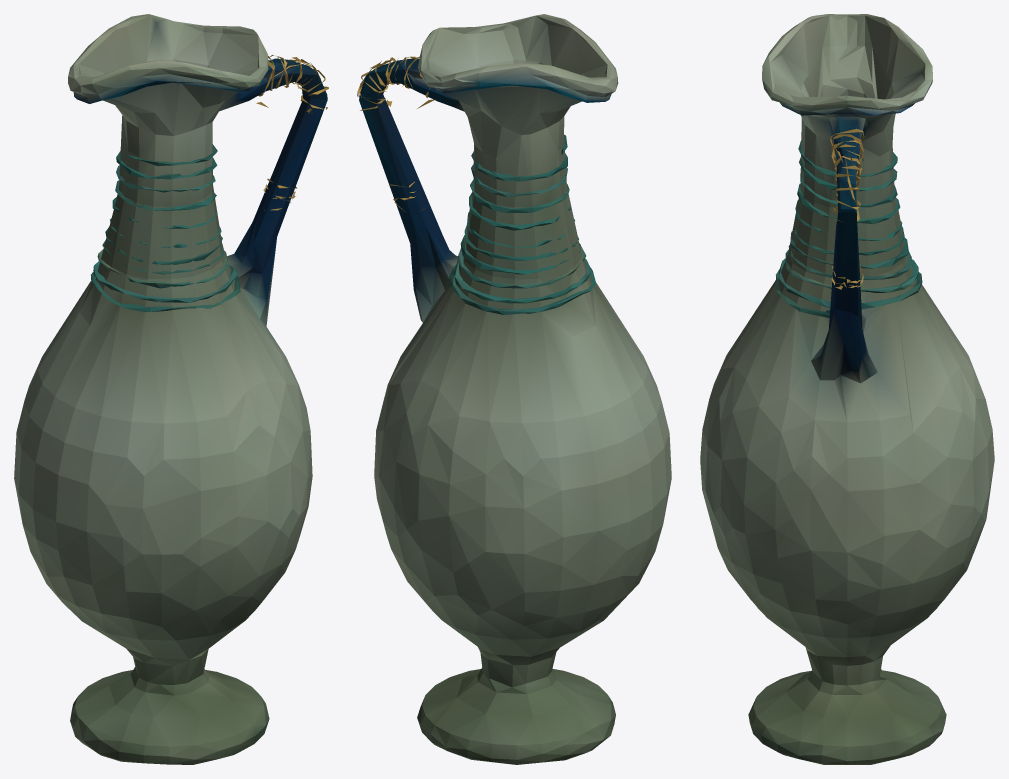
File: phoenix_headed_glass_bottle_edef50ab.glb
The picture shows the model from 3 angles, left to right: view 1: azimuth 30°, elevation 25°; view 2: azimuth 150°, elevation 25°; view 3: azimuth 270°, elevation 25°; orthographic projection.
Visible parts, largest first — view 1: SM_ShillaGlassBottle_01_Lowpoly_SM_ShillaGlassBottle_01_0; view 2: SM_ShillaGlassBottle_01_Lowpoly_SM_ShillaGlassBottle_01_0; view 3: SM_ShillaGlassBottle_01_Lowpoly_SM_ShillaGlassBottle_01_0.
Part boxes in pixels (<box>): SM_ShillaGlassBottle_01_Lowpoly_SM_ShillaGlassBottle_01_0: <box>14,14,328,764</box>; SM_ShillaGlassBottle_01_Lowpoly_SM_ShillaGlassBottle_01_0: <box>357,14,671,764</box>; SM_ShillaGlassBottle_01_Lowpoly_SM_ShillaGlassBottle_01_0: <box>700,14,994,764</box>.
Bounding box in the file's own units: 0.1097 × 0.2475 × 0.096.
